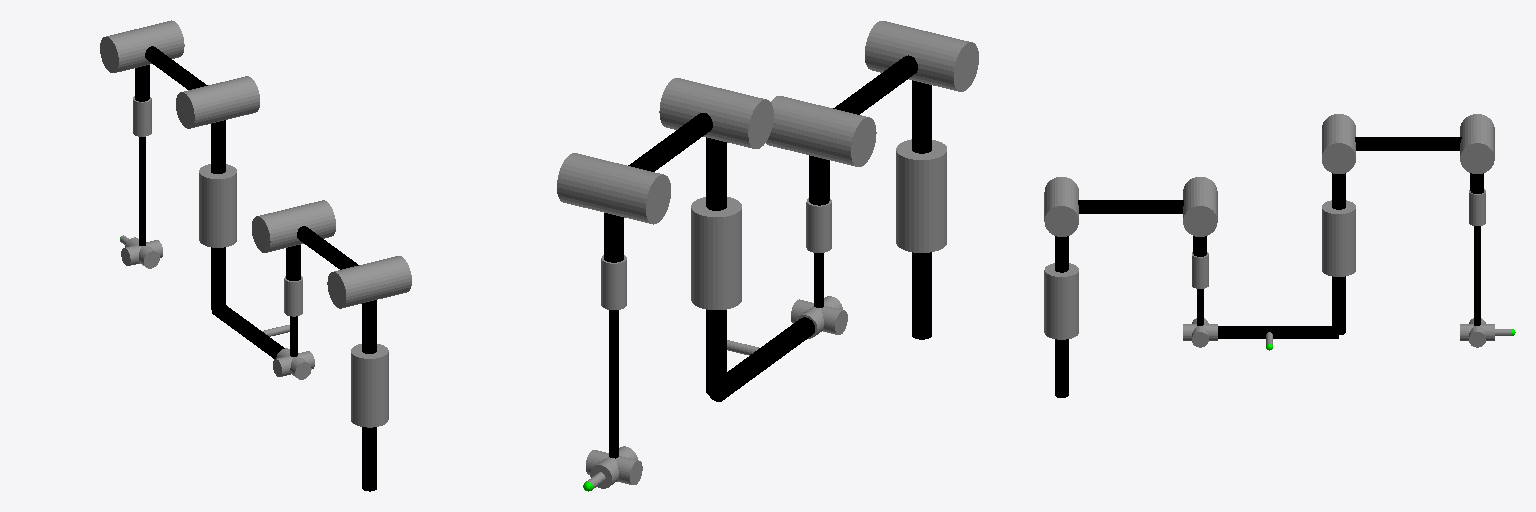
--- What the picture shows (computed from the rendered views, not written in the file) ---
3 views of the same robot in one strip: view 1: azimuth 30°, elevation 25°; view 2: azimuth 150°, elevation 25°; view 3: azimuth 270°, elevation 25° (orthographic).
Model twelvedof with 48 links and 47 joints (12 continuous, 35 fixed), rooted at world, posed every joint at zero.
Visible links, largest first — view 1: motor2, motor8, motor7, motor1, motor9, motor3, mountl, mount1, mount7, mount2, mount8, mount12 (+4 smaller); view 2: motor9, motor1, motor7, motor3, motor2, motor8, mountl, mount7, mount1, mount12, mount8, mount2 (+13 smaller); view 3: motor1, motor7, motor2, motor3, motor9, motor8, mountl, mount1, mount7, mount10, mount4, mount3 (+4 smaller).
Boxes of the visible links, box(x1,y1,x2,y2) form: motor2: box(327, 256, 411, 308); motor8: box(176, 76, 259, 128); motor7: box(199, 164, 236, 247); motor1: box(351, 344, 388, 427); motor9: box(100, 20, 184, 72); motor3: box(252, 200, 335, 252); mountl: box(212, 304, 284, 358); mount1: box(362, 427, 376, 491); mount7: box(211, 247, 225, 309); mount2: box(362, 300, 376, 353); mount8: box(211, 120, 225, 173); mount12: box(139, 137, 145, 245); motor9: box(557, 153, 670, 224); motor1: box(896, 139, 946, 252); motor7: box(691, 197, 741, 309); motor3: box(766, 96, 876, 166); motor2: box(865, 21, 978, 91); motor8: box(659, 78, 773, 148); mountl: box(710, 317, 814, 401); mount7: box(706, 309, 726, 396); mount1: box(912, 252, 931, 339); mount12: box(609, 310, 618, 458); mount8: box(706, 137, 726, 210); mount2: box(912, 80, 931, 153); motor1: box(1044, 263, 1078, 339); motor7: box(1322, 200, 1355, 276); motor2: box(1044, 177, 1078, 236); motor3: box(1183, 177, 1217, 236); motor9: box(1460, 114, 1494, 173); motor8: box(1322, 114, 1355, 173); mountl: box(1218, 326, 1338, 338); mount1: box(1055, 339, 1068, 397); mount7: box(1332, 276, 1345, 334); mount10: box(1408, 137, 1461, 150); mount4: box(1131, 200, 1183, 213); mount3: box(1078, 200, 1130, 213).
Bounding box of the posed robot: 0.21 × 1.36 × 0.85 m (x, y, z).
Geometry: primitives only (box / cylinder / sphere), no mesh files.

The robot description file, URDF, robot "twelvedof":
<?xml version="1.0"?>

<robot name="twelvedof">
  
  <!-- *************************************************** -->
  <!-- ******************** Kinematics ******************* -->
  <!-- *************************************************** -->

  <link name="world"/>

  <joint name="theta1" type="continuous">
    <parent link="world"/>
    <child  link="link1"/>
    <origin xyz="0 0 0.6" rpy="0 0 0"/>
    <axis   xyz="0 0 1"/>
    <dynamics damping="5.0"/>
  </joint>

  <link name="link1"/>

  <joint name="theta2" type="continuous">
    <parent link="link1"/>
    <child  link="link2"/>
    <origin xyz="0 0 0" rpy="0 0 0"/>
    <axis   xyz="1 0 0"/>
    <dynamics damping="5.0"/>
  </joint>

  <link name="link2"/>

  <joint name="attach-shoulder" type="fixed">
    <parent link="link2"/>
    <child  link="shoulder"/>
  </joint>

  <link name="shoulder"/>

  <joint name="theta3" type="continuous">
    <parent link="link2"/>
    <child  link="link3"/>
    <origin xyz="0 0.4 0" rpy="-1.5708 0 0"/>
    <axis   xyz="1 0 0 "/>
    <dynamics damping="1.0"/>
  </joint>

  <link name="link3"/>

  <joint name="attach-elbow" type="fixed">
    <parent link="link3"/>
    <child  link="elbow"/>
  </joint>

  <link name="elbow"/>

  <joint name="theta4" type="continuous">
    <parent link="link3"/>
    <child  link="link4"/>
    <origin xyz="0 0.4 0" rpy="0 0 0"/>
    <axis   xyz="0 1 0"/>
    <dynamics damping="0.2"/>
  </joint>

  <link name="link4"/>

  <joint name="theta5" type="continuous">
    <parent link="link4"/>
    <child  link="link5"/>
    <origin xyz="0 0 0" rpy="0 0 0"/>
    <axis   xyz="0 0 1"/>
    <dynamics damping="0.2"/>
  </joint>

  <link name="link5"/>

  <joint name="theta6" type="continuous">
    <parent link="link5"/>
    <child  link="link6"/>
    <origin xyz="0 0 0" rpy="0 0 0"/>
    <axis   xyz="1 0 0"/>
    <dynamics damping="0.2"/>
  </joint>

  <link name="link6"/>

  <joint name="final1" type="fixed">
    <parent link="link6"/>
    <child  link="tip_elbow"/>
    <origin xyz="0.1 0.0 0.2" rpy="1.5708 1.5708 0"/>
  </joint>

  <link name="tip_elbow"/>


  <!-- Second 6dof -->
    <joint name="theta7" type="continuous">
    <parent link="link6"/>
    <child  link="link7"/>
    <origin xyz="0.0 -0.6 0.4" rpy="1.5708 0 0"/>
    <axis   xyz="0 0 1"/>
    <dynamics damping="5.0"/>
  </joint>

  <link name="link7"/>

  <joint name="theta8" type="continuous">
    <parent link="link7"/>
    <child  link="link8"/>
    <origin xyz="0 0 0" rpy="0 0 0"/>
    <axis   xyz="1 0 0"/>
    <dynamics damping="5.0"/>
  </joint>

  <link name="link8"/>

  <joint name="attach-shoulder2" type="fixed">
    <parent link="link8"/>
    <child  link="shoulder2"/>
  </joint>

  <link name="shoulder2"/>

  <joint name="theta9" type="continuous">
    <parent link="link8"/>
    <child  link="link9"/>
    <origin xyz="0 0.4 0" rpy="-1.5708 0 0"/>
    <axis   xyz="1 0 0 "/>
    <dynamics damping="1.0"/>
  </joint>

  <link name="link9"/>

  <joint name="attach-elbow2" type="fixed">
    <parent link="link9"/>
    <child  link="elbow2"/>
  </joint>

  <link name="elbow2"/>

  <joint name="theta10" type="continuous">
    <parent link="link9"/>
    <child  link="link10"/>
    <origin xyz="0 0.6 0" rpy="0 0 0"/>
    <axis   xyz="0 1 0"/>
    <dynamics damping="0.2"/>
  </joint>

  <link name="link10"/>

  <joint name="theta11" type="continuous">
    <parent link="link10"/>
    <child  link="link11"/>
    <origin xyz="0 0 0" rpy="0 0 0"/>
    <axis   xyz="0 0 1"/>
    <dynamics damping="0.2"/>
  </joint>

  <link name="link11"/>

  <joint name="theta12" type="continuous">
    <parent link="link11"/>
    <child  link="link12"/>
    <origin xyz="0 0 0" rpy="0 0 0"/>
    <axis   xyz="1 0 0"/>
    <dynamics damping="0.2"/>
  </joint>

  <link name="link12"/>

  <joint name="final2" type="fixed">
    <parent link="link12"/>
    <child  link="tip_full"/>
    <origin xyz="0.0 0.0 0.1" rpy="1.5708 0 0"/>
  </joint>

  <link name="tip_full"/>


  <!-- *************************************************** -->
  <!-- ******************* RVIZ Colors ******************* -->
  <!-- *************************************************** -->

  <material name="white">    <color rgba="1.00 1.00 1.00 1"/>  </material>
  <material name="gray">     <color rgba="0.60 0.60 0.60 1"/>  </material>
  <material name="table">    <color rgba="0.85 0.77 0.77 1"/>  </material>
  <material name="black">    <color rgba="0.00 0.00 0.00 1"/>  </material>

  <material name="red">      <color rgba="1.00 0.00 0.00 1"/>  </material>
  <material name="green">    <color rgba="0.00 1.00 0.00 1"/>  </material>
  <material name="blue">     <color rgba="0.00 0.00 1.00 1"/>  </material>

  <material name="cyan">     <color rgba="0.00 1.00 1.00 1"/>  </material>
  <material name="magenta">  <color rgba="1.00 0.00 1.00 1"/>  </material>
  <material name="yellow">   <color rgba="1.00 1.00 0.00 1"/>  </material>

  <material name="orange">   <color rgba="1.00 0.65 0.00 1"/>  </material>


  <!-- *************************************************** -->
  <!-- ****** Building Blocks (Visual AND Inertial) ****** -->
  <!-- *************************************************** -->

  <!-- *** World-Fixed: Mount 1, Motor 1 *** -->

  <joint name="attach-mount1" type="fixed">
    <parent link="world"/>
    <child  link="mount1"/>
  </joint>
  <link name="mount1">
    <visual>
      <origin xyz="0 0 0.1" rpy="0 0 0"/>
      <geometry>
	<cylinder length="0.2" radius="0.02"/>
      </geometry>
      <material name="black"/>
    </visual>
    <collision>
      <origin xyz="0 0 0.1" rpy="0 0 0"/>
      <geometry>
	<cylinder length="0.2" radius="0.02"/>
      </geometry>
    </collision>
    <inertial>
      <origin xyz="0 0 0.1" rpy="0 0 0"/>
      <mass value="0.2"/>
      <inertia
        ixx="0.000687" ixy="0.0" ixz="0.0"
        iyy="0.000687" iyz="0.0"
        izz="0.000040"/>
    </inertial>
  </link>

  <joint name="attach-motor1" type="fixed">
    <parent link="world"/>
    <child  link="motor1"/>
  </joint>
  <link name="motor1">
    <visual>
      <origin xyz="0 0 0.3" rpy="0 0 0"/>
      <geometry>
	<cylinder length="0.2" radius="0.05"/>
      </geometry>
      <material name="gray"/>
    </visual>
    <collision>
      <origin xyz="0 0 0.3" rpy="0 0 0"/>
      <geometry>
	<cylinder length="0.2" radius="0.05"/>
      </geometry>
    </collision>
    <inertial>
      <origin xyz="0 0 0.3" rpy="0 0 0"/>
      <mass value="2.0"/>
      <inertia
        ixx="0.007917" ixy="0.0" ixz="0.0"
        iyy="0.007917" iyz="0.0"
        izz="0.002500"/>
    </inertial>
  </link>

  <!-- *** Motor 1 Output: Mount 2, Motor 2 *** -->

  <joint name="attach-mount2" type="fixed">
    <parent link="link1"/>
    <child  link="mount2"/>
  </joint>
  <link name="mount2">
    <visual>
      <origin xyz="0 0 -0.1" rpy="0 0 0"/>
      <geometry>
	<cylinder length="0.2" radius="0.02"/>
      </geometry>
      <material name="black"/>
    </visual>
    <collision>
      <origin xyz="0 0 -0.1" rpy="0 0 0"/>
      <geometry>
	<cylinder length="0.2" radius="0.02"/>
      </geometry>
    </collision>
    <inertial>
      <origin xyz="0 0 -0.1" rpy="0 0 0"/>
      <mass value="0.2"/>
      <inertia
        ixx="0.000687" ixy="0.0" ixz="0.0"
        iyy="0.000687" iyz="0.0"
        izz="1.000040"/>
    </inertial>
  </link>

  <joint name="attach-motor2" type="fixed">
    <parent link="link1"/>
    <child  link="motor2"/>
  </joint>
  <link name="motor2">
    <visual>
      <origin xyz="0 0 0" rpy="0 1.5708 0"/>
      <geometry>
	<cylinder length="0.2" radius="0.05"/>
      </geometry>
      <material name="gray"/>
    </visual>
    <collision>
      <origin xyz="0 0 0" rpy="0 1.5708 0"/>
      <geometry>
	<cylinder length="0.2" radius="0.05"/>
      </geometry>
    </collision>
    <inertial>
      <origin xyz="0 0 0" rpy="0 1.5708 0"/>
      <mass value="2.0"/>
      <inertia
        ixx="0.007917" ixy="0.0" ixz="0.0"
        iyy="0.007917" iyz="0.0"
        izz="0.002500"/>
    </inertial>
  </link>

  <!-- *** Motor 2 Output: Mount 3, Motor 3 *** -->

  <joint name="attach-mount3" type="fixed">
    <parent link="link2"/>
    <child  link="mount3"/>
  </joint>
  <link name="mount3">
    <visual>
      <origin xyz="0 0.1 0" rpy="1.5708 0 0"/>
      <geometry>
	<cylinder length="0.2" radius="0.02"/>
      </geometry>
      <material name="black"/>
    </visual>
    <collision>
      <origin xyz="0 0.1 0" rpy="1.5708 0 0"/>
      <geometry>
	<cylinder length="0.2" radius="0.02"/>
      </geometry>
    </collision>
    <inertial>
      <origin xyz="0 0.1 0" rpy="1.5708 0 0"/>
      <mass value="0.2"/>
      <inertia
        ixx="1.000687" ixy="0.0" ixz="0.0"
        iyy="0.000687" iyz="0.0"
        izz="0.000040"/>
    </inertial>
  </link>

  <joint name="attach-mount4" type="fixed">
    <parent link="link2"/>
    <child  link="mount4"/>
  </joint>
  <link name="mount4">
    <visual>
      <origin xyz="0 0.3 0" rpy="1.5708 0 0"/>
      <geometry>
	<cylinder length="0.2" radius="0.02"/>
      </geometry>
      <material name="black"/>
    </visual>
    <collision>
      <origin xyz="0 0.3 0" rpy="1.5708 0 0"/>
      <geometry>
	<cylinder length="0.2" radius="0.02"/>
      </geometry>
    </collision>
    <inertial>
      <origin xyz="0 0.3 0" rpy="1.5708 0 0"/>
      <mass value="0.2"/>
      <inertia
        ixx="0.000687" ixy="0.0" ixz="0.0"
        iyy="0.000687" iyz="0.0"
        izz="1.000040"/>
    </inertial>
  </link>

  <joint name="attach-motor3" type="fixed">
    <parent link="link2"/>
    <child  link="motor3"/>
  </joint>
  <link name="motor3">
    <visual>
      <origin xyz="0 0.4 0" rpy="0 1.5708 0"/>
      <geometry>
	<cylinder length="0.2" radius="0.05"/>
      </geometry>
      <material name="gray"/>
    </visual>
    <collision>
      <origin xyz="0 0.4 0" rpy="0 1.5708 0"/>
      <geometry>
	<cylinder length="0.2" radius="0.05"/>
      </geometry>
    </collision>
    <inertial>
      <origin xyz="0 0.4 0" rpy="0 1.5708 0"/>
      <mass value="2.0"/>
      <inertia
        ixx="0.007917" ixy="0.0" ixz="0.0"
        iyy="0.007917" iyz="0.0"
        izz="0.002500"/>
    </inertial>
  </link>

  <!-- *** Motor 4 Output: Mount 5, Motor 5 *** -->

  <joint name="attach-mount5" type="fixed">
    <parent link="link3"/>
    <child  link="mount5"/>
  </joint>
  <link name="mount5">
    <visual>
      <origin xyz="0 0.1 0" rpy="1.5708 0 0"/>
      <geometry>
	<cylinder length="0.2" radius="0.02"/>
      </geometry>
      <material name="black"/>
    </visual>
    <collision>
      <origin xyz="0 0.1 0" rpy="1.5708 0 0"/>
      <geometry>
	<cylinder length="0.2" radius="0.02"/>
      </geometry>
    </collision>
    <inertial>
      <origin xyz="0 0.1 0" rpy="1.5708 0 0"/>
      <mass value="0.2"/>
      <inertia
        ixx="0.500687" ixy="0.0" ixz="0.0"
        iyy="0.000687" iyz="0.0"
        izz="0.000040"/>
    </inertial>
  </link>

  <joint name="attach-motor4" type="fixed">
    <parent link="link3"/>
    <child  link="motor4"/>
  </joint>
  <link name="motor4">
    <visual>
      <origin xyz="0 0.2 0" rpy="1.5708 0 0"/>
      <geometry>
	<cylinder length="0.1" radius="0.025"/>
      </geometry>
      <material name="gray"/>
    </visual>
    <collision>
      <origin xyz="0 0.2 0" rpy="1.5708 0 0"/>
      <geometry>
	<cylinder length="0.1" radius="0.025"/>
      </geometry>
    </collision>
    <inertial>
      <origin xyz="0 0.2 0" rpy="1.5708 0 0"/>
      <mass value="1.0"/>
      <inertia
        ixx="0.000990" ixy="0.0" ixz="0.0"
        iyy="0.000990" iyz="0.0"
        izz="0.000313"/>
    </inertial>
  </link>

  <!-- *** Motor 5 Output: Mount 6, Motor 6 *** -->

  <joint name="attach-mount6" type="fixed">
    <parent link="link4"/>
    <child  link="mount6"/>
  </joint>
  <link name="mount6">
    <visual>
      <origin xyz="0 -0.1 0" rpy="1.5708 0 0"/>
      <geometry>
	<cylinder length="0.2" radius="0.01"/>
      </geometry>
      <material name="black"/>
    </visual>
    <collision>
      <origin xyz="0 -0.1 0" rpy="1.5708 0 0"/>
      <geometry>
	<cylinder length="0.2" radius="0.01"/>
      </geometry>
    </collision>
    <inertial>
      <origin xyz="0 -0.1 0" rpy="1.5708 0 0"/>
      <mass value="0.1"/>
      <inertia
        ixx="0.000336" ixy="0.0" ixz="0.0"
        iyy="0.000336" iyz="0.0"
        izz="0.500005"/>
    </inertial>
  </link>

  <joint name="attach-motor5" type="fixed">
    <parent link="link4"/>
    <child  link="motor5"/>
  </joint>
  <link name="motor5">
    <visual>
      <origin xyz="0 0 0" rpy="0 0 0"/>
      <geometry>
	<cylinder length="0.1" radius="0.025"/>
      </geometry>
      <material name="gray"/>
    </visual>
    <collision>
      <origin xyz="0 0 0" rpy="0 0 0"/>
      <geometry>
	<cylinder length="0.1" radius="0.025"/>
      </geometry>
    </collision>
    <inertial>
      <origin xyz="0 0 0" rpy="0 0 0"/>
      <mass value="1.0"/>
      <inertia
        ixx="0.000990" ixy="0.0" ixz="0.0"
        iyy="0.000990" iyz="0.0"
        izz="0.000313"/>
    </inertial>
  </link>

  <!-- *** Motor 6 Output: Motor 7 *** -->

  <joint name="attach-motor6" type="fixed">
    <parent link="link5"/>
    <child  link="motor6"/>
  </joint>
  <link name="motor6">
    <visual>
      <origin xyz="0 0 0" rpy="0 1.5708 0"/>
      <geometry>
	<cylinder length="0.1" radius="0.025"/>
      </geometry>
      <material name="gray"/>
    </visual>
    <collision>
      <origin xyz="0 0 0" rpy="0 1.5708 0"/>
      <geometry>
	<cylinder length="0.1" radius="0.025"/>
      </geometry>
    </collision>
    <inertial>
      <origin xyz="0 0 0" rpy="0 1.5708 0"/>
      <mass value="1.0"/>
      <inertia
        ixx="0.500990" ixy="0.0" ixz="0.0"
        iyy="0.000990" iyz="0.0"
        izz="0.000313"/>
    </inertial>
  </link>

  <!-- *** Drawing Sphere *** -->

  <joint name="attach-sphere" type="fixed">
    <parent link="tip_elbow"/>
    <child  link="sphere"/>
  </joint>
  <link name="sphere">
    <visual>
      <origin xyz="0 0 0" rpy="0 0 0"/>
      <geometry>
	      <sphere radius="0.01"/>
      </geometry>
      <material name="green"/>
    </visual>
    <collision>
      <origin xyz="0 0 0" rpy="0 0 0"/>
      <geometry>
	      <sphere radius="0.01"/>
      </geometry>
      <material name="green"/>
    </collision>
    <inertial>
      <origin xyz="0 0 0" rpy="0 0 0"/>
      <mass value="0.01"/>
      <inertia
        ixx="0.01" ixy="0.0" ixz="0.0"
        iyy="0.01" iyz="0.0"
        izz="0.01"/>
    </inertial>
  </link>


  <joint name="attach-cylinder" type="fixed">
    <parent link="tip_elbow"/>
    <child  link="cylinder"/>
  </joint>
  <link name="cylinder">
    <visual>
      <origin xyz="0 -0.05 0" rpy="1.5708 0 0"/>
      <geometry>
	      <cylinder length="0.1" radius="0.01"/>
      </geometry>
      <material name="gray"/>
    </visual>
    <collision>
      <origin xyz="0 -0.05 0" rpy="1.5708 0 0"/>
      <geometry>
	      <cylinder length="0.1" radius="0.01"/>
      </geometry>
    </collision>
    <inertial>
      <origin xyz="0 0 0" rpy="0 1.5708 0"/>
      <mass value="0.01"/>
      <inertia
        ixx="0.500990" ixy="0.0" ixz="0.0"
        iyy="0.000990" iyz="0.0"
        izz="0.000313"/>
    </inertial>
  </link>


  <!-- Second 6dof -->
  <!-- *** World-Fixed: Mount 1, Motor 1 *** -->
  <joint name="attach-mountl" type="fixed">
    <parent link="link6"/>
    <child  link="mountl"/>
  </joint>
  <link name="mountl">
    <visual>
      <origin xyz="0 0.0 0.2" rpy="0 0 0"/>
      <geometry>
	<cylinder length="0.4" radius="0.02"/>
      </geometry>
      <material name="black"/>
    </visual>
    <collision>
      <origin xyz="0 -0.1 0.4" rpy="1.5708 0 0"/>
      <geometry>
	<cylinder length="0.2" radius="0.02"/>
      </geometry>
    </collision>
    <inertial>
      <origin xyz="0 -0.1 0.4" rpy="1.5708 0 0"/>
      <mass value="0.1"/>
      <inertia
        ixx="0.000687" ixy="0.0" ixz="0.0"
        iyy="0.000687" iyz="0.0"
        izz="0.000040"/>
    </inertial>
  </link>


  <joint name="attach-mount7" type="fixed">
    <parent link="link6"/>
    <child  link="mount7"/>
  </joint>
  <link name="mount7">
    <visual>
      <origin xyz="0 -0.1 0.4" rpy="1.5708 0 0"/>
      <geometry>
	<cylinder length="0.2" radius="0.02"/>
      </geometry>
      <material name="black"/>
    </visual>
    <collision>
      <origin xyz="0 -0.1 0.4" rpy="1.5708 0 0"/>
      <geometry>
	<cylinder length="0.2" radius="0.02"/>
      </geometry>
    </collision>
    <inertial>
      <origin xyz="0 -0.1 0.4" rpy="1.5708 0 0"/>
      <mass value="0.1"/>
      <inertia
        ixx="0.000687" ixy="0.0" ixz="0.0"
        iyy="0.000687" iyz="0.0"
        izz="0.000040"/>
    </inertial>
  </link>

  <joint name="attach-motor7" type="fixed">
    <parent link="link6"/>
    <child  link="motor7"/>
  </joint>
  <link name="motor7">
    <visual>
      <origin xyz="0 -0.3 0.4" rpy="1.5708 0 0"/>
      <geometry>
	<cylinder length="0.2" radius="0.05"/>
      </geometry>
      <material name="gray"/>
    </visual>
    <collision>
      <origin xyz="0 -0.3 0.4" rpy="1.5708 0 0"/>
      <geometry>
	<cylinder length="0.2" radius="0.05"/>
      </geometry>
    </collision>
    <inertial>
      <origin xyz="0 -0.3 0.4" rpy="1.5708 0 0"/>
      <mass value="0.1"/>
      <inertia
        ixx="0.007917" ixy="0.0" ixz="0.0"
        iyy="0.007917" iyz="0.0"
        izz="0.002500"/>
    </inertial>
  </link>

  <!-- *** Motor 1 Output: Mount 2, Motor 2 *** -->

  <joint name="attach-mount8" type="fixed">
    <parent link="link7"/>
    <child  link="mount8"/>
  </joint>
  <link name="mount8">
    <visual>
      <origin xyz="0 0 -0.1" rpy="0 0 0"/>
      <geometry>
	<cylinder length="0.2" radius="0.02"/>
      </geometry>
      <material name="black"/>
    </visual>
    <collision>
      <origin xyz="0 0 -0.1" rpy="0 0 0"/>
      <geometry>
	<cylinder length="0.2" radius="0.02"/>
      </geometry>
    </collision>
    <inertial>
      <origin xyz="0 0 -0.1" rpy="0 0 0"/>
      <mass value="0.1"/>
      <inertia
        ixx="0.000687" ixy="0.0" ixz="0.0"
        iyy="0.000687" iyz="0.0"
        izz="1.000040"/>
    </inertial>
  </link>

  <joint name="attach-motor8" type="fixed">
    <parent link="link7"/>
    <child  link="motor8"/>
  </joint>
  <link name="motor8">
    <visual>
      <origin xyz="0 0 0" rpy="0 1.5708 0"/>
      <geometry>
	<cylinder length="0.2" radius="0.05"/>
      </geometry>
      <material name="gray"/>
    </visual>
    <collision>
      <origin xyz="0 0 0" rpy="0 1.5708 0"/>
      <geometry>
	<cylinder length="0.2" radius="0.05"/>
      </geometry>
    </collision>
    <inertial>
      <origin xyz="0 0 0" rpy="0 1.5708 0"/>
      <mass value="0.1"/>
      <inertia
        ixx="0.007917" ixy="0.0" ixz="0.0"
        iyy="0.007917" iyz="0.0"
        izz="0.002500"/>
    </inertial>
  </link>

  <!-- *** Motor 2 Output: Mount 3, Motor 3 *** -->

  <joint name="attach-mount9" type="fixed">
    <parent link="link8"/>
    <child  link="mount9"/>
  </joint>
  <link name="mount9">
    <visual>
      <origin xyz="0 0.1 0" rpy="1.5708 0 0"/>
      <geometry>
	<cylinder length="0.2" radius="0.02"/>
      </geometry>
      <material name="black"/>
    </visual>
    <collision>
      <origin xyz="0 0.1 0" rpy="1.5708 0 0"/>
      <geometry>
	<cylinder length="0.2" radius="0.02"/>
      </geometry>
    </collision>
    <inertial>
      <origin xyz="0 0.1 0" rpy="1.5708 0 0"/>
      <mass value="0.1"/>
      <inertia
        ixx="1.000687" ixy="0.0" ixz="0.0"
        iyy="0.000687" iyz="0.0"
        izz="0.000040"/>
    </inertial>
  </link>

  <joint name="attach-mount10" type="fixed">
    <parent link="link8"/>
    <child  link="mount10"/>
  </joint>
  <link name="mount10">
    <visual>
      <origin xyz="0 0.3 0" rpy="1.5708 0 0"/>
      <geometry>
	<cylinder length="0.2" radius="0.02"/>
      </geometry>
      <material name="black"/>
    </visual>
    <collision>
      <origin xyz="0 0.3 0" rpy="1.5708 0 0"/>
      <geometry>
	<cylinder length="0.2" radius="0.02"/>
      </geometry>
    </collision>
    <inertial>
      <origin xyz="0 0.3 0" rpy="1.5708 0 0"/>
      <mass value="0.1"/>
      <inertia
        ixx="0.000687" ixy="0.0" ixz="0.0"
        iyy="0.000687" iyz="0.0"
        izz="1.000040"/>
    </inertial>
  </link>

  <joint name="attach-motor9" type="fixed">
    <parent link="link8"/>
    <child  link="motor9"/>
  </joint>
  <link name="motor9">
    <visual>
      <origin xyz="0 0.4 0" rpy="0 1.5708 0"/>
      <geometry>
	<cylinder length="0.2" radius="0.05"/>
      </geometry>
      <material name="gray"/>
    </visual>
    <collision>
      <origin xyz="0 0.4 0" rpy="0 1.5708 0"/>
      <geometry>
	<cylinder length="0.2" radius="0.05"/>
      </geometry>
    </collision>
    <inertial>
      <origin xyz="0 0.4 0" rpy="0 1.5708 0"/>
      <mass value="0.1"/>
      <inertia
        ixx="0.007917" ixy="0.0" ixz="0.0"
        iyy="0.007917" iyz="0.0"
        izz="0.002500"/>
    </inertial>
  </link>

  <!-- *** Motor 4 Output: Mount 5, Motor 5 *** -->

  <joint name="attach-mount11" type="fixed">
    <parent link="link9"/>
    <child  link="mount11"/>
  </joint>
  <link name="mount11">
    <visual>
      <origin xyz="0 0.1 0" rpy="1.5708 0 0"/>
      <geometry>
	<cylinder length="0.2" radius="0.02"/>
      </geometry>
      <material name="black"/>
    </visual>
    <collision>
      <origin xyz="0 0.1 0" rpy="1.5708 0 0"/>
      <geometry>
	<cylinder length="0.2" radius="0.02"/>
      </geometry>
    </collision>
    <inertial>
      <origin xyz="0 0.1 0" rpy="1.5708 0 0"/>
      <mass value="0.1"/>
      <inertia
        ixx="0.500687" ixy="0.0" ixz="0.0"
        iyy="0.000687" iyz="0.0"
        izz="0.000040"/>
    </inertial>
  </link>

  <joint name="attach-motor10" type="fixed">
    <parent link="link9"/>
    <child  link="motor10"/>
  </joint>
  <link name="motor10">
    <visual>
      <origin xyz="0 0.2 0" rpy="1.5708 0 0"/>
      <geometry>
	<cylinder length="0.1" radius="0.025"/>
      </geometry>
      <material name="gray"/>
    </visual>
    <collision>
      <origin xyz="0 0.2 0" rpy="1.5708 0 0"/>
      <geometry>
	<cylinder length="0.1" radius="0.025"/>
      </geometry>
    </collision>
    <inertial>
      <origin xyz="0 0.2 0" rpy="1.5708 0 0"/>
      <mass value="0.1"/>
      <inertia
        ixx="0.000990" ixy="0.0" ixz="0.0"
        iyy="0.000990" iyz="0.0"
        izz="0.000313"/>
    </inertial>
  </link>

  <!-- *** Motor 5 Output: Mount 6, Motor 6 *** -->

  <joint name="attach-mount12" type="fixed">
    <parent link="link10"/>
    <child  link="mount12"/>
  </joint>
  <link name="mount12">
    <visual>
      <origin xyz="0 -0.2 0" rpy="1.5708 0 0"/>
      <geometry>
	<cylinder length="0.4" radius="0.01"/>
      </geometry>
      <material name="black"/>
    </visual>
    <collision>
      <origin xyz="0 -0.2 0" rpy="1.5708 0 0"/>
      <geometry>
	<cylinder length="0.4" radius="0.01"/>
      </geometry>
    </collision>
    <inertial>
      <origin xyz="0 -0.2 0" rpy="1.5708 0 0"/>
      <mass value="0.1"/>
      <inertia
        ixx="0.000336" ixy="0.0" ixz="0.0"
        iyy="0.000336" iyz="0.0"
        izz="0.500005"/>
    </inertial>
  </link>

  <joint name="attach-motor11" type="fixed">
    <parent link="link10"/>
    <child  link="motor11"/>
  </joint>
  <link name="motor11">
    <visual>
      <origin xyz="0 0 0" rpy="0 0 0"/>
      <geometry>
	<cylinder length="0.1" radius="0.025"/>
      </geometry>
      <material name="gray"/>
    </visual>
    <collision>
      <origin xyz="0 0 0" rpy="0 0 0"/>
      <geometry>
	<cylinder length="0.1" radius="0.025"/>
      </geometry>
    </collision>
    <inertial>
      <origin xyz="0 0 0" rpy="0 0 0"/>
      <mass value="0.1"/>
      <inertia
        ixx="0.000990" ixy="0.0" ixz="0.0"
        iyy="0.000990" iyz="0.0"
        izz="0.000313"/>
    </inertial>
  </link>

  <!-- *** Motor 6 Output: Motor 7 *** -->

  <joint name="attach-motor12" type="fixed">
    <parent link="link11"/>
    <child  link="motor12"/>
  </joint>
  <link name="motor12">
    <visual>
      <origin xyz="0 0 0" rpy="0 1.5708 0"/>
      <geometry>
	<cylinder length="0.1" radius="0.025"/>
      </geometry>
      <material name="gray"/>
    </visual>
    <collision>
      <origin xyz="0 0 0" rpy="0 1.5708 0"/>
      <geometry>
	<cylinder length="0.1" radius="0.025"/>
      </geometry>
    </collision>
    <inertial>
      <origin xyz="0 0 0" rpy="0 1.5708 0"/>
      <mass value="0.1"/>
      <inertia
        ixx="0.500990" ixy="0.0" ixz="0.0"
        iyy="0.000990" iyz="0.0"
        izz="0.000313"/>
    </inertial>
  </link>

  <!-- *** Drawing Sphere *** -->

  <joint name="attach-sphere2" type="fixed">
    <parent link="tip_full"/>
    <child  link="sphere2"/>
  </joint>
  <link name="sphere2">
    <visual>
      <origin xyz="0 0 0" rpy="0 0 0"/>
      <geometry>
	      <sphere radius="0.01"/>
      </geometry>
      <material name="green"/>
    </visual>
    <collision>
      <origin xyz="0 0 0" rpy="0 0 0"/>
      <geometry>
	      <sphere radius="0.01"/>
      </geometry>
      <material name="green"/>
    </collision>
    <inertial>
      <origin xyz="0 0 0" rpy="0 0 0"/>
      <mass value="0.1"/>
      <inertia
        ixx="0.01" ixy="0.0" ixz="0.0"
        iyy="0.01" iyz="0.0"
        izz="0.01"/>
    </inertial>
  </link>


  <joint name="attach-cylinder2" type="fixed">
    <parent link="tip_full"/>
    <child  link="cylinder2"/>
  </joint>
  <link name="cylinder2">
    <visual>
      <origin xyz="0 -0.05 0" rpy="1.5708 0 0"/>
      <geometry>
	      <cylinder length="0.1" radius="0.01"/>
      </geometry>
      <material name="gray"/>
    </visual>
    <collision>
      <origin xyz="0 -0.05 0" rpy="1.5708 0 0"/>
      <geometry>
	      <cylinder length="0.1" radius="0.01"/>
      </geometry>
    </collision>
    <inertial>
      <origin xyz="0 0 0" rpy="0 1.5708 0"/>
      <mass value="0.1"/>
      <inertia
        ixx="0.500990" ixy="0.0" ixz="0.0"
        iyy="0.000990" iyz="0.0"
        izz="0.000313"/>
    </inertial>
  </link>

  <!-- *************************************************** -->
  <!-- ******************* Gazebo Colors ***************** -->
  <!-- *************************************************** -->

  <gazebo reference="motor1"> <material>Gazebo/Gray</material>  </gazebo>
  <gazebo reference="motor2"> <material>Gazebo/Gray</material>  </gazebo>
  <gazebo reference="motor3"> <material>Gazebo/Gray</material>  </gazebo>
  <gazebo reference="motor4"> <material>Gazebo/Gray</material>  </gazebo>
  <gazebo reference="motor5"> <material>Gazebo/Gray</material>  </gazebo>
  <gazebo reference="motor6"> <material>Gazebo/Gray</material>  </gazebo>
  <gazebo reference="motor7"> <material>Gazebo/Gray</material>  </gazebo>
  <gazebo reference="motor8"> <material>Gazebo/Gray</material>  </gazebo>
  <gazebo reference="motor9"> <material>Gazebo/Gray</material>  </gazebo>
  <gazebo reference="motor10"> <material>Gazebo/Gray</material>  </gazebo>
  <gazebo reference="motor11"> <material>Gazebo/Gray</material>  </gazebo>
  <gazebo reference="motor12"> <material>Gazebo/Gray</material>  </gazebo>

  <gazebo reference="mount1">   <material>Gazebo/Black</material> </gazebo>
  <gazebo reference="mount2">   <material>Gazebo/Black</material> </gazebo>
  <gazebo reference="mount3">   <material>Gazebo/Black</material> </gazebo>
  <gazebo reference="mount4">   <material>Gazebo/Black</material> </gazebo>
  <gazebo reference="mount5">   <material>Gazebo/Black</material> </gazebo>
  <gazebo reference="mount6">   <material>Gazebo/Black</material> </gazebo>
  <gazebo reference="mount7">   <material>Gazebo/Black</material> </gazebo>
  <gazebo reference="mount8">   <material>Gazebo/Black</material> </gazebo>
  <gazebo reference="mount9">   <material>Gazebo/Black</material> </gazebo>
  <gazebo reference="mount10">   <material>Gazebo/Black</material> </gazebo>
  <gazebo reference="mount11">   <material>Gazebo/Black</material> </gazebo>
  <gazebo reference="mount12">   <material>Gazebo/Black</material> </gazebo>
  <gazebo reference="mountl">   <material>Gazebo/Black</material> </gazebo>

  <gazebo reference="sphere">  <material>Gazebo/Green</material>  </gazebo>

  
  <!-- *************************************************** -->
  <!-- ************** Gazebo Transmissions *************** -->
  <!-- *************************************************** -->

  <transmission name="trans1">
    <type>transmission_interface/SimpleTransmission</type>
    <joint name="theta1">
      <hardwareInterface>hardware_interface/EffortJointInterface</hardwareInterface>
    </joint>
    <actuator name="motor1">
      <mechanicalReduction>1</mechanicalReduction>
      <hardwareInterface>hardware_interface/EffortJointInterface</hardwareInterface>
    </actuator>
  </transmission>
  
  <transmission name="trans2">
    <type>transmission_interface/SimpleTransmission</type>
    <joint name="theta2">
      <hardwareInterface>hardware_interface/EffortJointInterface</hardwareInterface>
    </joint>
    <actuator name="motor2">
      <mechanicalReduction>1</mechanicalReduction>
      <hardwareInterface>hardware_interface/EffortJointInterface</hardwareInterface>
    </actuator>
  </transmission>
  
  <transmission name="trans3">
    <type>transmission_interface/SimpleTransmission</type>
    <joint name="theta3">
      <hardwareInterface>hardware_interface/EffortJointInterface</hardwareInterface>
    </joint>
    <actuator name="motor3">
      <mechanicalReduction>1</mechanicalReduction>
      <hardwareInterface>hardware_interface/EffortJointInterface</hardwareInterface>
    </actuator>
  </transmission>
  
  <transmission name="trans4">
    <type>transmission_interface/SimpleTransmission</type>
    <joint name="theta4">
      <hardwareInterface>hardware_interface/EffortJointInterface</hardwareInterface>
    </joint>
    <actuator name="motor4">
      <mechanicalReduction>1</mechanicalReduction>
      <hardwareInterface>hardware_interface/EffortJointInterface</hardwareInterface>
    </actuator>
  </transmission>
  
  <transmission name="trans5">
    <type>transmission_interface/SimpleTransmission</type>
    <joint name="theta5">
      <hardwareInterface>hardware_interface/EffortJointInterface</hardwareInterface>
    </joint>
    <actuator name="motor5">
      <mechanicalReduction>1</mechanicalReduction>
      <hardwareInterface>hardware_interface/EffortJointInterface</hardwareInterface>
    </actuator>
  </transmission>
  
  <transmission name="trans6">
    <type>transmission_interface/SimpleTransmission</type>
    <joint name="theta6">
      <hardwareInterface>hardware_interface/EffortJointInterface</hardwareInterface>
    </joint>
    <actuator name="motor6">
      <mechanicalReduction>1</mechanicalReduction>
      <hardwareInterface>hardware_interface/EffortJointInterface</hardwareInterface>
    </actuator>
  </transmission>

  <!-- Second 6dof -->

    <transmission name="trans7">
    <type>transmission_interface/SimpleTransmission</type>
    <joint name="theta7">
      <hardwareInterface>hardware_interface/EffortJointInterface</hardwareInterface>
    </joint>
    <actuator name="motor7">
      <mechanicalReduction>1</mechanicalReduction>
      <hardwareInterface>hardware_interface/EffortJointInterface</hardwareInterface>
    </actuator>
  </transmission>
  
  <transmission name="trans8">
    <type>transmission_interface/SimpleTransmission</type>
    <joint name="theta8">
      <hardwareInterface>hardware_interface/EffortJointInterface</hardwareInterface>
    </joint>
    <actuator name="motor8">
      <mechanicalReduction>1</mechanicalReduction>
      <hardwareInterface>hardware_interface/EffortJointInterface</hardwareInterface>
    </actuator>
  </transmission>
  
  <transmission name="trans9">
    <type>transmission_interface/SimpleTransmission</type>
    <joint name="theta9">
      <hardwareInterface>hardware_interface/EffortJointInterface</hardwareInterface>
    </joint>
    <actuator name="motor9">
      <mechanicalReduction>1</mechanicalReduction>
      <hardwareInterface>hardware_interface/EffortJointInterface</hardwareInterface>
    </actuator>
  </transmission>
  
  <transmission name="trans10">
    <type>transmission_interface/SimpleTransmission</type>
    <joint name="theta10">
      <hardwareInterface>hardware_interface/EffortJointInterface</hardwareInterface>
    </joint>
    <actuator name="motor10">
      <mechanicalReduction>1</mechanicalReduction>
      <hardwareInterface>hardware_interface/EffortJointInterface</hardwareInterface>
    </actuator>
  </transmission>
  
  <transmission name="trans11">
    <type>transmission_interface/SimpleTransmission</type>
    <joint name="theta11">
      <hardwareInterface>hardware_interface/EffortJointInterface</hardwareInterface>
    </joint>
    <actuator name="motor11">
      <mechanicalReduction>1</mechanicalReduction>
      <hardwareInterface>hardware_interface/EffortJointInterface</hardwareInterface>
    </actuator>
  </transmission>
  
  <transmission name="trans12">
    <type>transmission_interface/SimpleTransmission</type>
    <joint name="theta12">
      <hardwareInterface>hardware_interface/EffortJointInterface</hardwareInterface>
    </joint>
    <actuator name="motor12">
      <mechanicalReduction>1</mechanicalReduction>
      <hardwareInterface>hardware_interface/EffortJointInterface</hardwareInterface>
    </actuator>
  </transmission>

  
  <!-- *************************************************** -->
  <!-- *************** Gazebo Controllers **************** -->
  <!-- *************************************************** -->

  <gazebo>
    <plugin name="gazebo_ros_control" filename="libgazebo_ros_control.so">
      <robotNamespace>/twelvedof</robotNamespace>
      <robotSimType>gazebo_ros_control/DefaultRobotHWSim</robotSimType>
    </plugin>
  </gazebo>

</robot>
